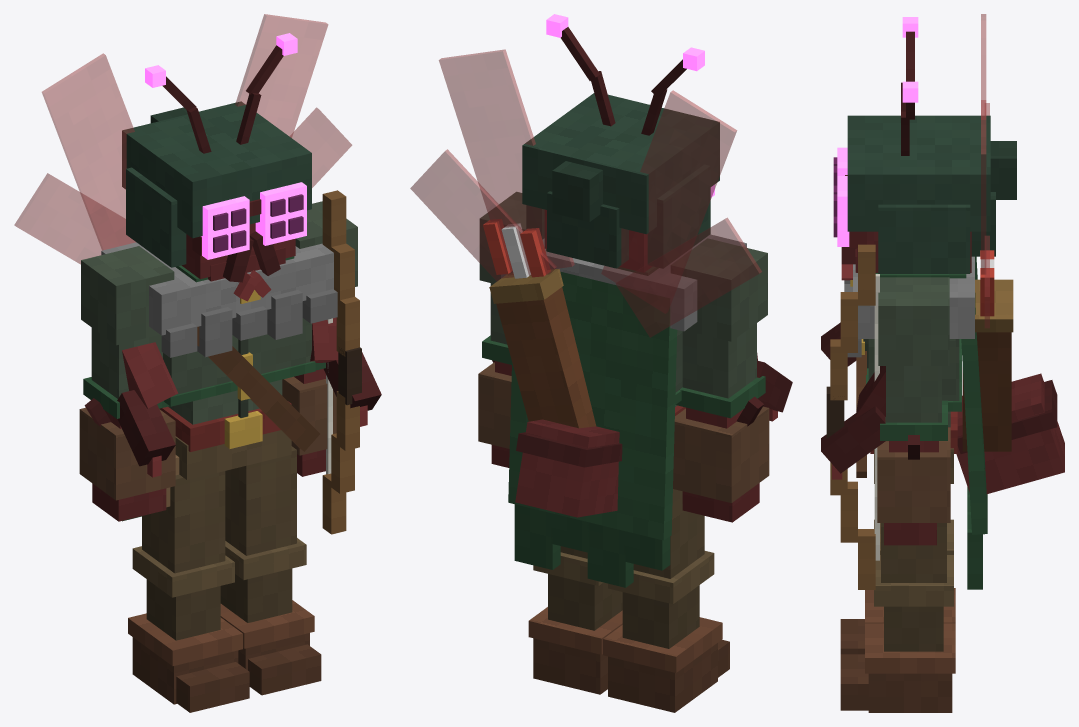
The model's file is insectoid_chasseur_v2.glb.
3 renders of one model, left to right at view 1: azimuth 30°, elevation 25°; view 2: azimuth 150°, elevation 25°; view 3: azimuth 270°, elevation 25°, orthographic. The views are drawn at different scales.
Parts seen in each view (by area): view 1: Torso, Head, LegR, LegL, ArmR, HandL, ArmL; view 2: Torso, Head, ArmR, LegR, LegL, ArmL; view 3: Torso, Head, ArmL, LegL, HandL, LegR.
Part boxes in pixels (x1,y1,x2,y2): Torso: [14, 14, 381, 521]; Head: [122, 33, 311, 301]; LegR: [128, 471, 249, 712]; LegL: [220, 446, 321, 695]; ArmR: [79, 246, 175, 521]; HandL: [322, 190, 361, 534]; ArmL: [282, 201, 357, 476]; Torso: [410, 49, 792, 587]; Head: [522, 14, 719, 272]; ArmR: [671, 238, 769, 522]; LegR: [603, 489, 729, 712]; LegL: [528, 546, 622, 694]; ArmL: [478, 192, 544, 467]; Torso: [821, 14, 1064, 589]; Head: [833, 17, 1016, 280]; ArmL: [877, 277, 950, 545]; LegL: [840, 523, 955, 712]; HandL: [826, 244, 879, 589]; LegR: [840, 519, 955, 654].
Bounding box in the file's own units: 1.12 × 1.98 × 0.699.
43 materials, 43 textured.
